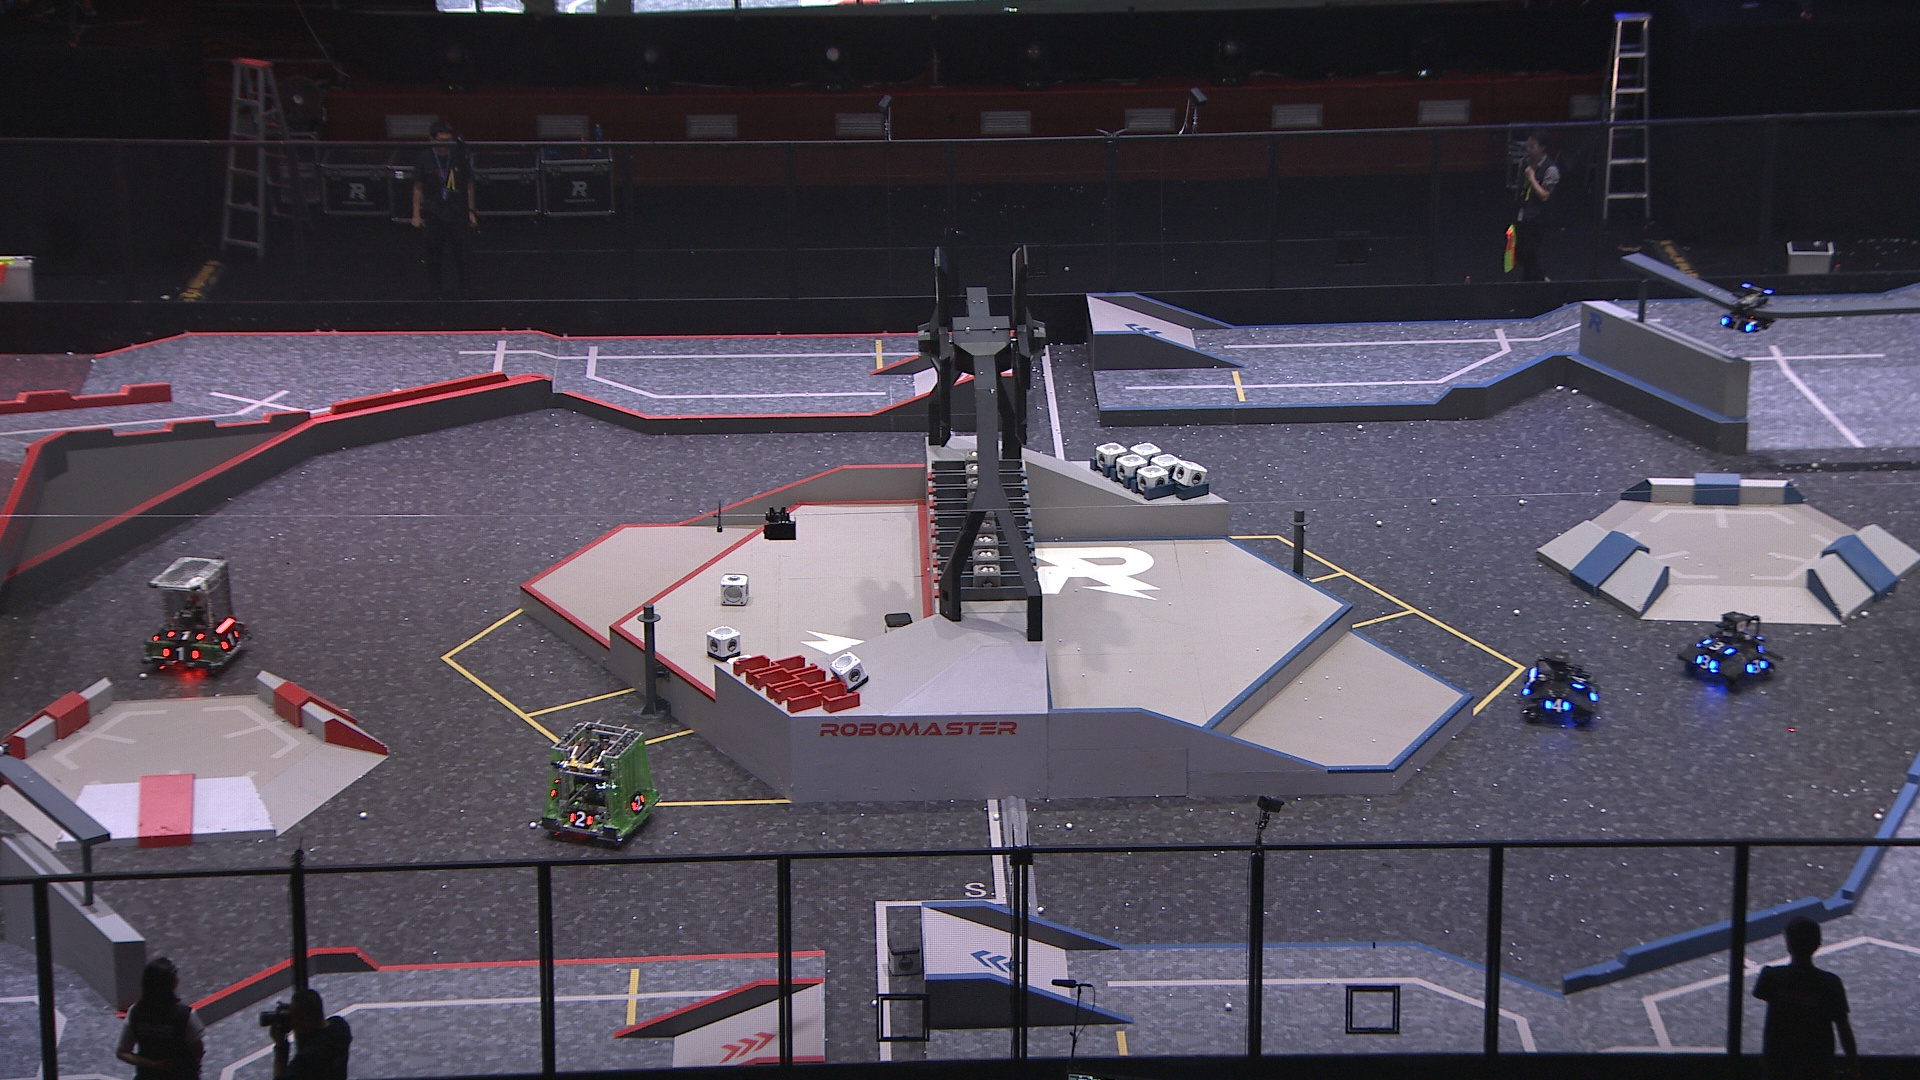armor: (162, 645, 204, 665), (1720, 314, 1755, 334), (166, 626, 204, 644), (1702, 637, 1735, 657), (566, 811, 595, 829), (1544, 698, 1572, 716), (1695, 654, 1720, 674), (220, 628, 240, 651), (1746, 657, 1768, 676), (629, 794, 646, 815), (1571, 671, 1589, 690)
car: (537, 723, 659, 849), (144, 556, 252, 675), (1684, 611, 1783, 692), (1522, 650, 1604, 731)
watcher: (1718, 281, 1778, 338)
